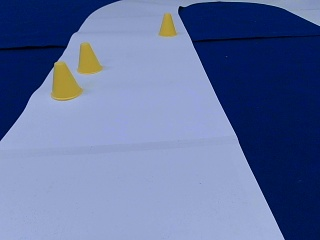cone: (50, 62, 83, 100), (76, 43, 101, 73), (158, 13, 176, 36)
